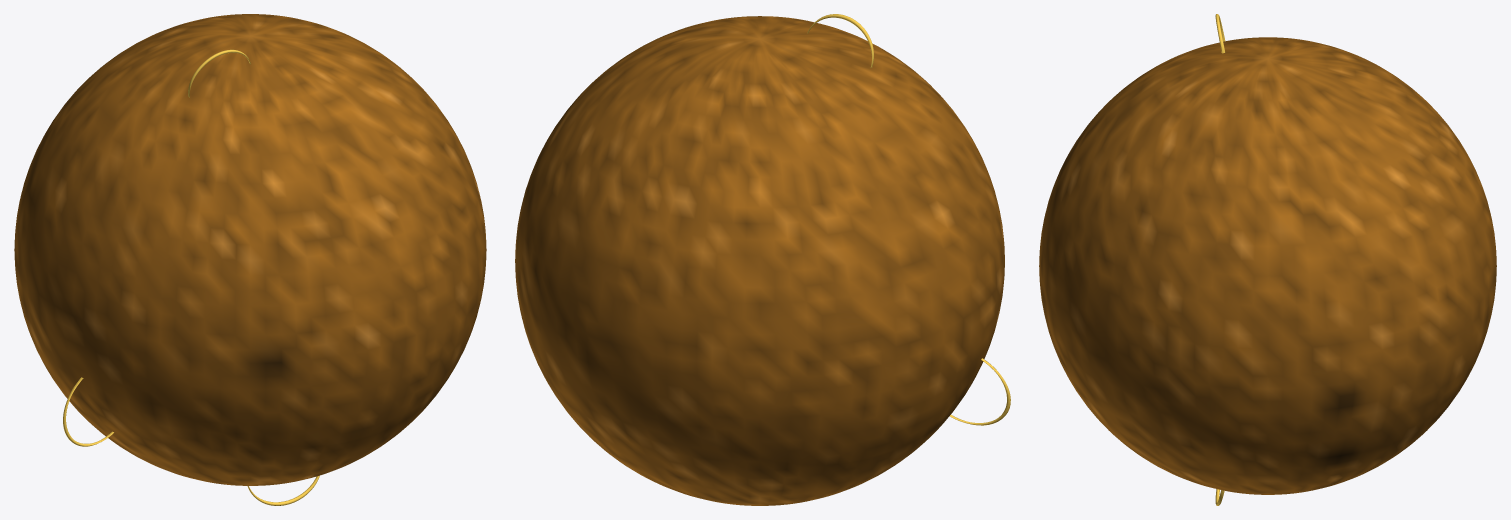
File: Star_32.fbx
3 views of the same model, side by side, from view 1: azimuth 30°, elevation 25°; view 2: azimuth 150°, elevation 25°; view 3: azimuth 270°, elevation 25° (orthographic). The views are drawn at different scales.
Parts seen in each view (by area): view 1: Star_32; view 2: Star_32; view 3: Star_32.
Part boxes in pixels (x1,y1,x2,y2): Star_32: (14, 14, 486, 505); Star_32: (515, 14, 1010, 505); Star_32: (1039, 14, 1496, 505).
Bounding box in the file's own units: 205 × 219 × 200.
